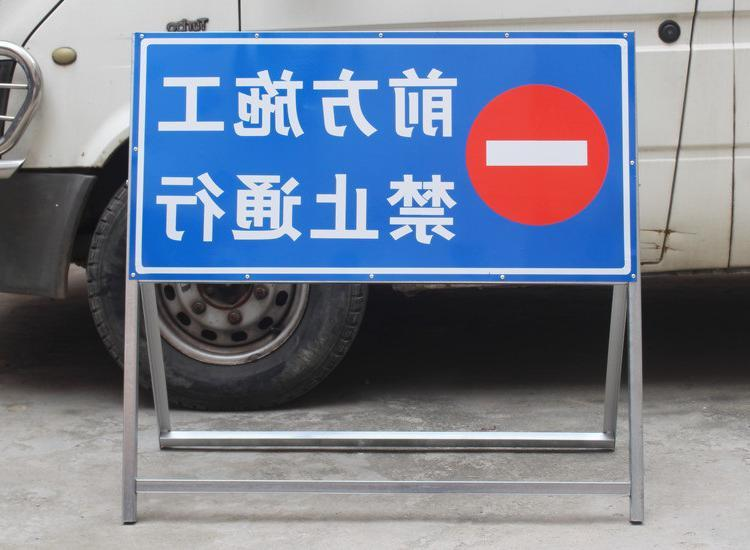sign: (131, 31, 640, 284)
